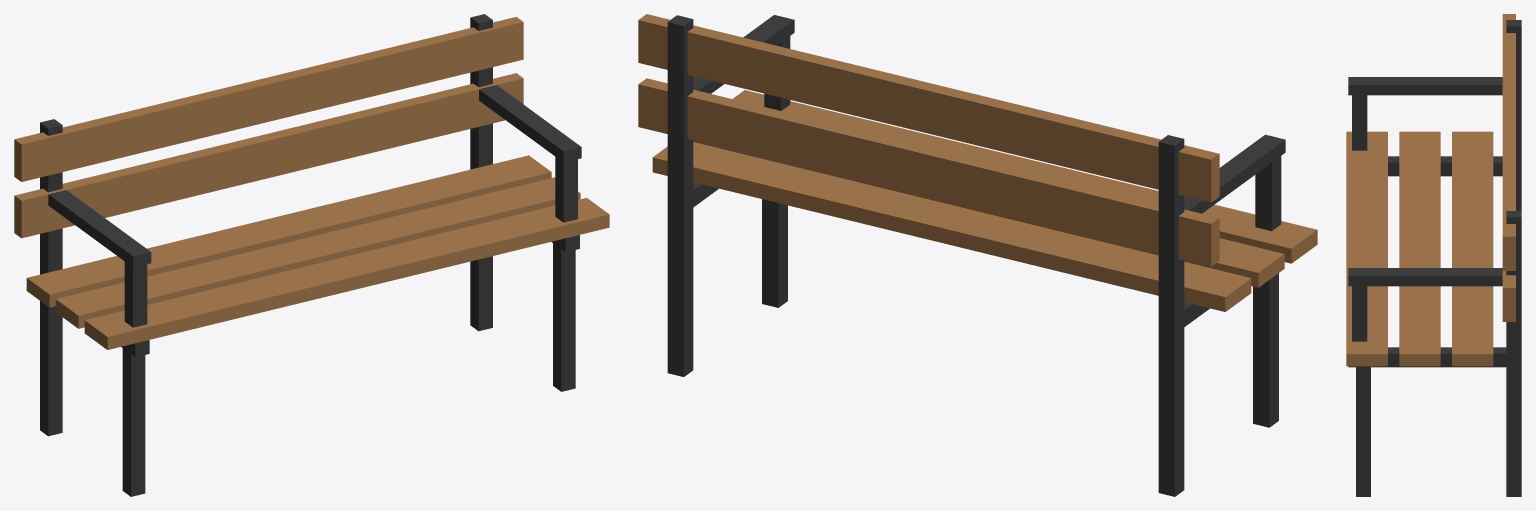
The model's file is bench.glb.
The picture shows the model from 3 angles, left to right: view 1: azimuth 30°, elevation 25°; view 2: azimuth 150°, elevation 25°; view 3: azimuth 270°, elevation 25°; orthographic projection. The views are drawn at different scales.
Visible parts, largest first — view 1: bench; view 2: bench; view 3: bench.
Part boxes in pixels (x1=…): bench: x1=14, y1=14, x2=609, y2=496; bench: x1=638, y1=14, x2=1317, y2=496; bench: x1=1346, y1=14, x2=1521, y2=496.
Size of the model in its own units: 1.4 by 0.82 by 0.465.
Materials: 1 (1 with a texture image).
